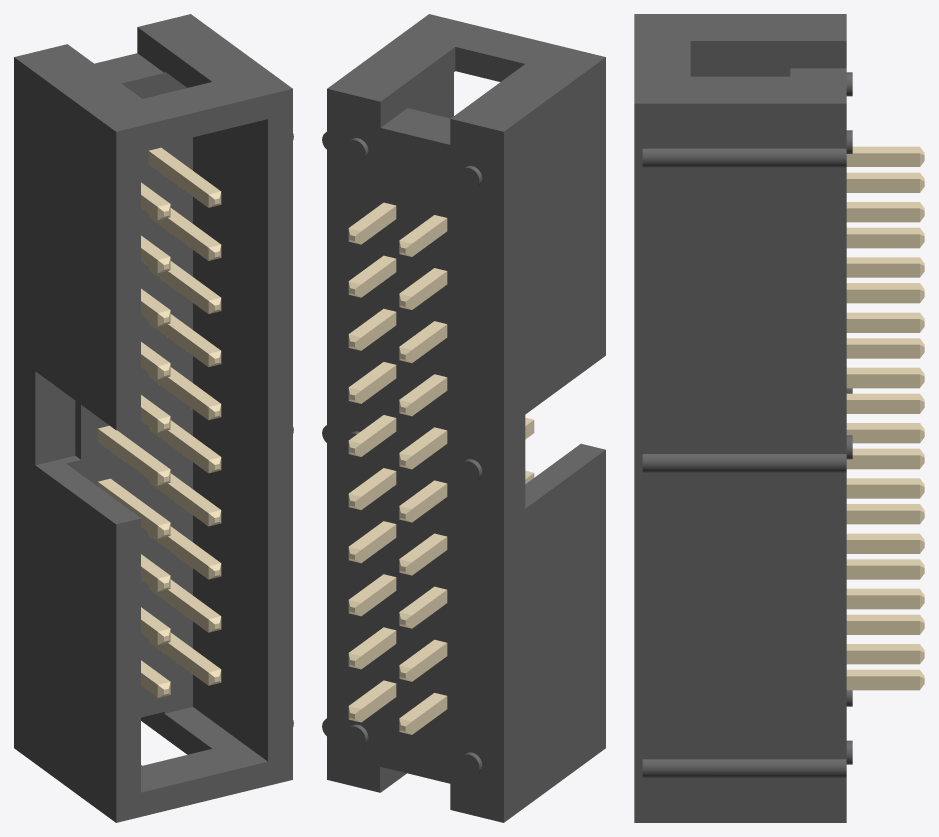
Rendered from IDC-Header_2x10_P2.54mm_Vertical.glb.
3 renders of one model, left to right at view 1: azimuth 30°, elevation 25°; view 2: azimuth 150°, elevation 25°; view 3: azimuth 270°, elevation 25°, orthographic. The views are drawn at different scales.
Parts seen in each view (by area): view 1: Shape_IndexedFaceSet, Shape_IndexedFaceSet.014, Shape_IndexedFaceSet.002, Shape_IndexedFaceSet.017, Shape_IndexedFaceSet.001, Shape_IndexedFaceSet.013, Shape_IndexedFaceSet.004, Shape_IndexedFaceSet.005, Shape_IndexedFaceSet.011, Shape_IndexedFaceSet.019, Shape_IndexedFaceSet.026, Shape_IndexedFaceSet.099 (+22 smaller); view 2: Shape_IndexedFaceSet.007, Shape_IndexedFaceSet, Shape_IndexedFaceSet.001, Shape_IndexedFaceSet.011, Shape_IndexedFaceSet.005, Shape_IndexedFaceSet.026, Shape_IndexedFaceSet.010, Shape_IndexedFaceSet.014, Shape_IndexedFaceSet.099, Shape_IndexedFaceSet.085; view 3: Shape_IndexedFaceSet.008, Shape_IndexedFaceSet.001, Shape_IndexedFaceSet.009, Shape_IndexedFaceSet.025, Shape_IndexedFaceSet.023, Shape_IndexedFaceSet.024, Shape_IndexedFaceSet.016, Shape_IndexedFaceSet.060, Shape_IndexedFaceSet.088, Shape_IndexedFaceSet.116, Shape_IndexedFaceSet.144, Shape_IndexedFaceSet.186 (+21 smaller).
Part boxes in pixels (x1=…): Shape_IndexedFaceSet: x1=14, y1=57, x2=116, y2=822; Shape_IndexedFaceSet.014: x1=193, y1=119, x2=267, y2=761; Shape_IndexedFaceSet.002: x1=116, y1=89, x2=292, y2=822; Shape_IndexedFaceSet.017: x1=66, y1=71, x2=192, y2=717; Shape_IndexedFaceSet.001: x1=14, y1=14, x2=292, y2=131; Shape_IndexedFaceSet.013: x1=141, y1=707, x2=267, y2=792; Shape_IndexedFaceSet.004: x1=35, y1=371, x2=75, y2=465; Shape_IndexedFaceSet.005: x1=36, y1=455, x2=140, y2=524; Shape_IndexedFaceSet.011: x1=137, y1=27, x2=211, y2=87; Shape_IndexedFaceSet.019: x1=141, y1=712, x2=211, y2=754; Shape_IndexedFaceSet.026: x1=94, y1=53, x2=163, y2=83; Shape_IndexedFaceSet.099: x1=97, y1=429, x2=157, y2=485; Shape_IndexedFaceSet.007: x1=322, y1=89, x2=503, y2=822; Shape_IndexedFaceSet: x1=504, y1=57, x2=605, y2=822; Shape_IndexedFaceSet.001: x1=327, y1=14, x2=605, y2=131; Shape_IndexedFaceSet.011: x1=380, y1=47, x2=455, y2=127; Shape_IndexedFaceSet.005: x1=525, y1=443, x2=605, y2=508; Shape_IndexedFaceSet.026: x1=381, y1=108, x2=450, y2=144; Shape_IndexedFaceSet.010: x1=455, y1=47, x2=524, y2=81; Shape_IndexedFaceSet.014: x1=407, y1=72, x2=453, y2=118; Shape_IndexedFaceSet.099: x1=412, y1=420, x2=534, y2=522; Shape_IndexedFaceSet.085: x1=412, y1=473, x2=534, y2=575; Shape_IndexedFaceSet.008: x1=634, y1=103, x2=846, y2=822; Shape_IndexedFaceSet.001: x1=634, y1=14, x2=846, y2=103; Shape_IndexedFaceSet.009: x1=690, y1=41, x2=846, y2=68; Shape_IndexedFaceSet.025: x1=642, y1=148, x2=846, y2=167; Shape_IndexedFaceSet.023: x1=642, y1=759, x2=846, y2=777; Shape_IndexedFaceSet.024: x1=642, y1=454, x2=846, y2=472; Shape_IndexedFaceSet.016: x1=690, y1=66, x2=790, y2=76; Shape_IndexedFaceSet.060: x1=846, y1=595, x2=919, y2=609; Shape_IndexedFaceSet.088: x1=846, y1=484, x2=919, y2=498; Shape_IndexedFaceSet.116: x1=846, y1=374, x2=919, y2=388; Shape_IndexedFaceSet.144: x1=846, y1=263, x2=919, y2=277; Shape_IndexedFaceSet.186: x1=846, y1=676, x2=919, y2=690.
Bounding box in the file's own units: 3.58 × 13.02 × 4.76.
